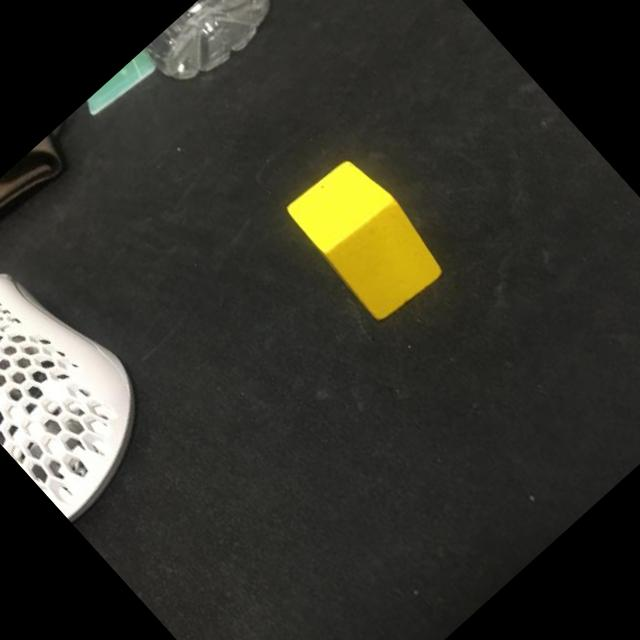yellow: (278, 147, 455, 329)
